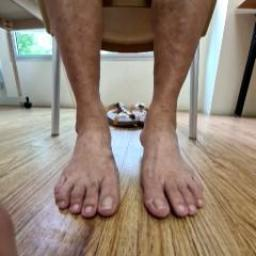Front View -Both Feet-: (36, 94, 224, 229)
